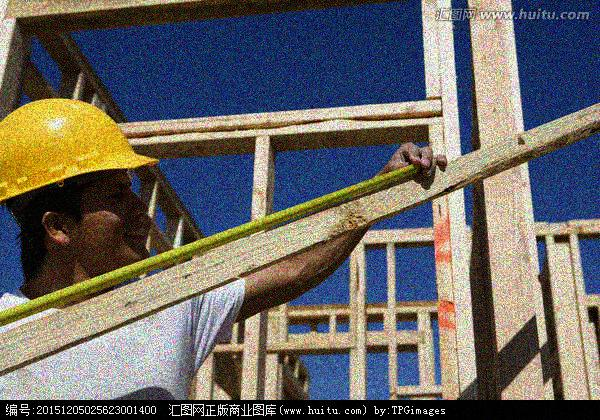helmet: (1, 96, 158, 275)
